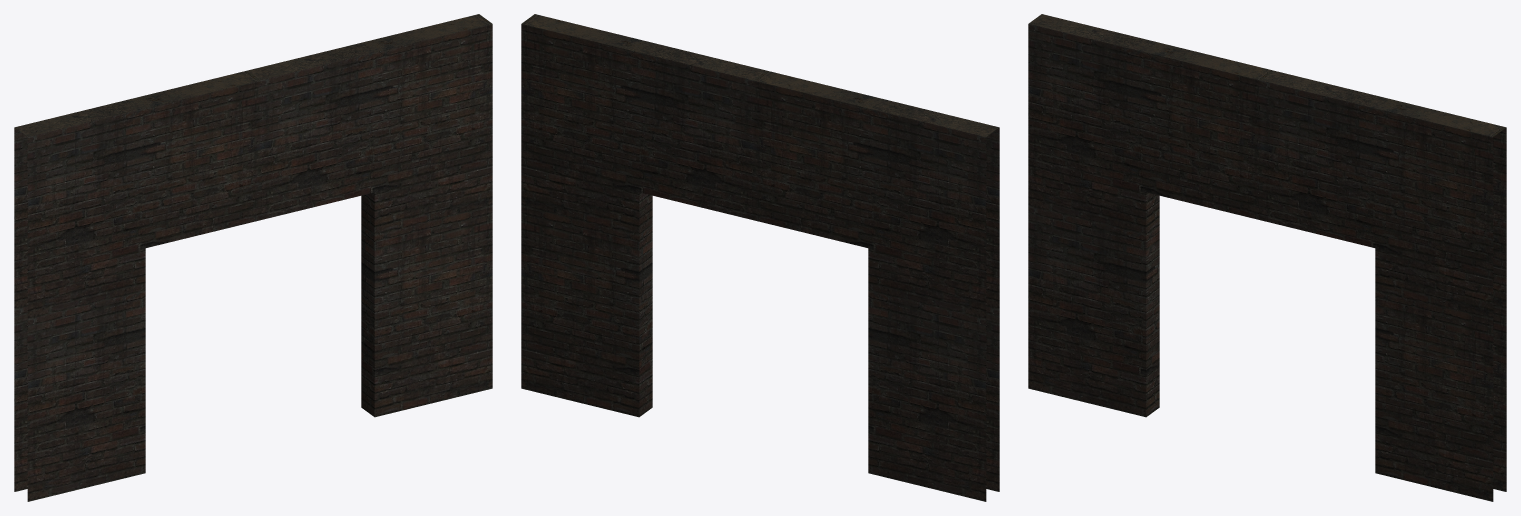
File: garage_door_frame_hs_1.glb
3 views of the same model, side by side, from view 1: azimuth 30°, elevation 25°; view 2: azimuth 150°, elevation 25°; view 3: azimuth 330°, elevation 25° (orthographic).
Parts seen in each view (by area): view 1: garage_door_frame_hs_1; view 2: garage_door_frame_hs_1; view 3: garage_door_frame_hs_1.
Boxes of the visible parts, x1=… form: garage_door_frame_hs_1: x1=14, y1=14, x2=492, y2=501; garage_door_frame_hs_1: x1=521, y1=14, x2=999, y2=501; garage_door_frame_hs_1: x1=1028, y1=14, x2=1506, y2=501.
Bounding box in the file's own units: 8 × 6 × 0.4.
2 materials, 2 textured.
